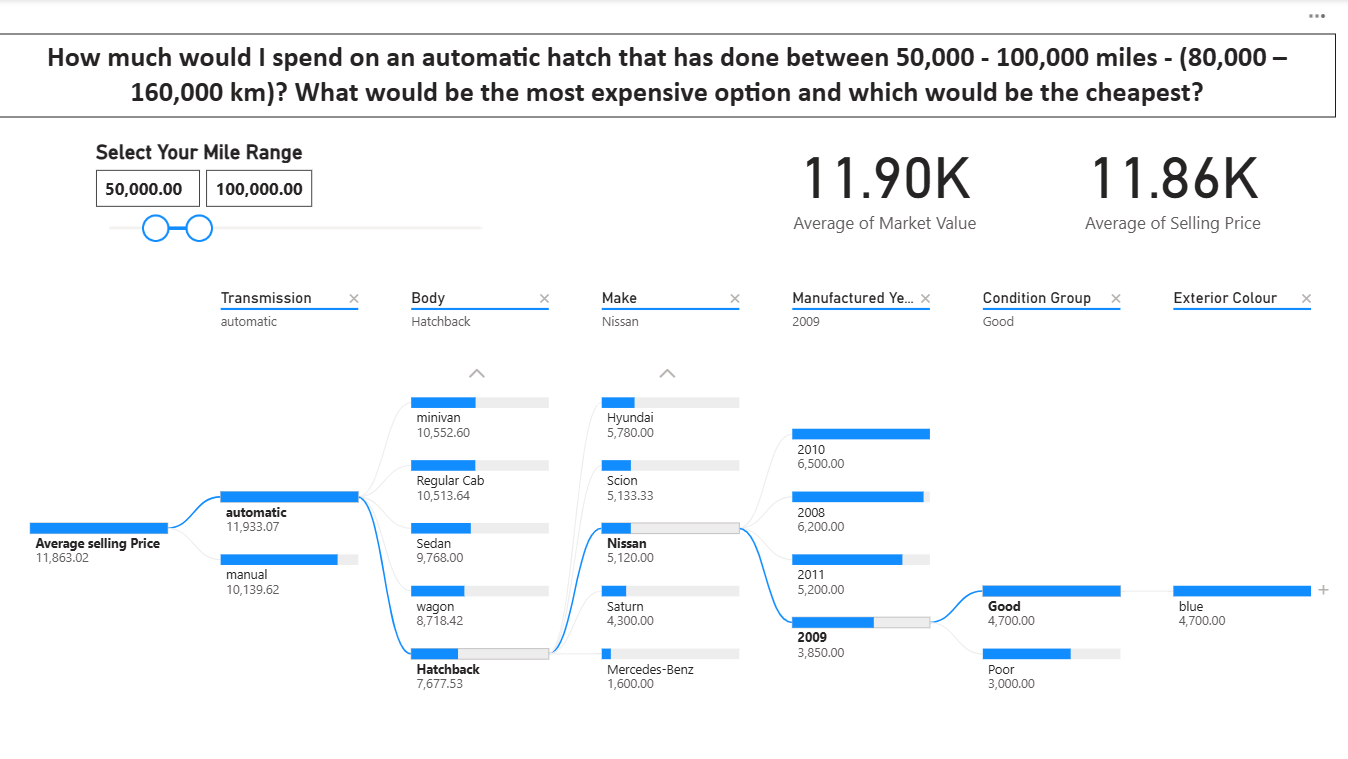

The dashboard page shown, as its layout file describes it:
{"tool":"powerbi","page":{"name":"Question 4","canvas":[1280,720],"ordinal":7},"visuals":[{"type":"decompositionTreeVisual","fields":{"ExplainBy":["car_prices_sample.Transmission","car_prices_sample.Body","car_prices_sample.Make","car_prices_sample.Manufactured Year","car_prices_sample.Condition Group","car_prices_sample.Exterior Colour","car_prices_sample.Interior Colour"],"Analyze":["car_prices_sample.Average selling Price"]},"box":[0,256,1264,464],"z":0},{"type":"card","fields":{"Values":["Avg(car_prices_sample.Market Value)"]},"box":[701.7,116.1,272,112],"z":1000},{"type":"card","fields":{"Values":["Avg(car_prices_sample.Selling Price)"]},"box":[973.7,116.1,272,112],"z":2000},{"type":"textbox","box":[0,32,1264,80],"z":3000},{"type":"slicer","fields":{"Values":["car_prices_sample.Odometer"]},"box":[80,128,400,160],"z":4000}]}

Visuals, with their boxes in screenshot pixels (x1, y1, x2, y2), scaled from the page's 1280x720 canvas onto the 1348x759 screenshot:
decompositionTreeVisual - car_prices_sample.Transmission x car_prices_sample.Body: box=[0, 270, 1331, 758]
card - Avg(car_prices_sample.Market Value): box=[739, 122, 1025, 240]
card - Avg(car_prices_sample.Selling Price): box=[1025, 122, 1312, 240]
textbox: box=[0, 34, 1331, 118]
slicer - car_prices_sample.Odometer: box=[84, 135, 506, 304]
